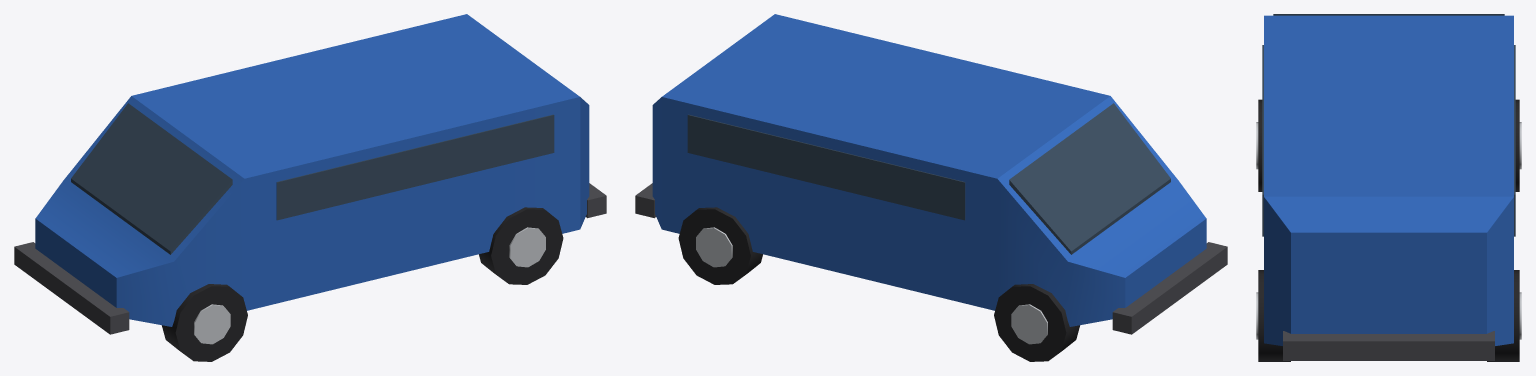
The model's file is car_van_blue.fbx.
3 views of the same model, side by side, from view 1: azimuth 30°, elevation 25°; view 2: azimuth 150°, elevation 25°; view 3: azimuth 270°, elevation 25° (orthographic). The views are drawn at different scales.
Parts seen in each view (by area): view 1: Body, Wheel_FR, Wheel_RR; view 2: Body, Wheel_FL, Wheel_RL; view 3: Body, Wheel_RL, Wheel_RR, Wheel_FL, Wheel_FR.
Part boxes in pixels (bbox=[...]): Body: bbox=[14, 14, 606, 334]; Wheel_FR: bbox=[162, 284, 247, 361]; Wheel_RR: bbox=[479, 207, 563, 284]; Body: bbox=[635, 14, 1227, 334]; Wheel_FL: bbox=[994, 284, 1079, 361]; Wheel_RL: bbox=[678, 207, 762, 284]; Body: bbox=[1262, 14, 1515, 360]; Wheel_RL: bbox=[1487, 270, 1521, 361]; Wheel_RR: bbox=[1256, 270, 1290, 361]; Wheel_FL: bbox=[1515, 99, 1521, 191]; Wheel_FR: bbox=[1256, 99, 1262, 191].
Size of the model in its own units: 4.66 by 1.55 by 1.95.
